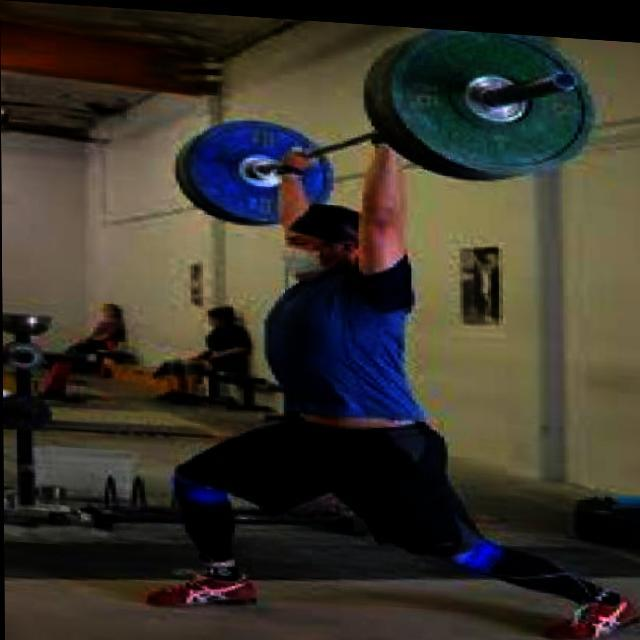barbell: (382, 21, 599, 180)
